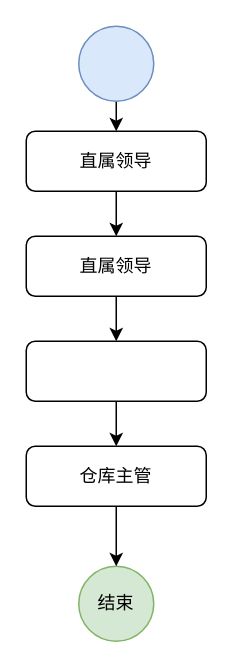
This 233x668 diagram has some shape labels left out. Each missing label, with the centre of its shape:
"开始" goes at (115,63).
"生管" goes at (115,370).
